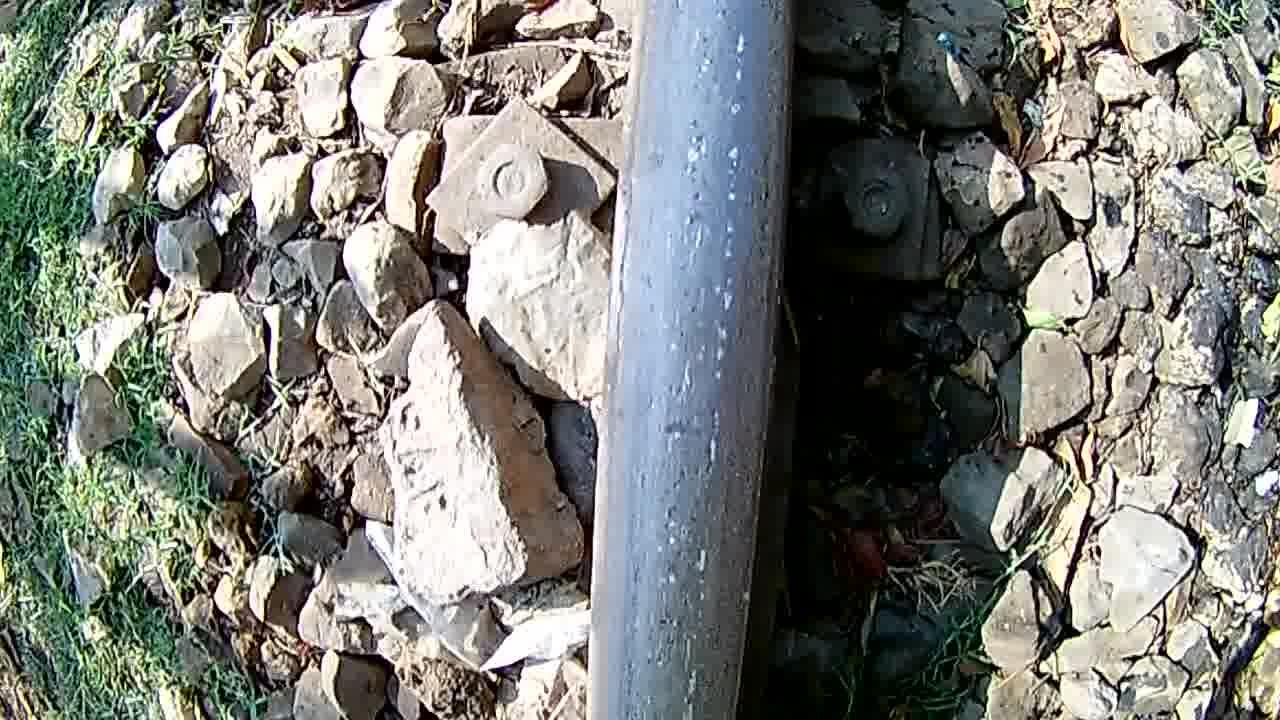clip_missing: (588, 0, 798, 720)
